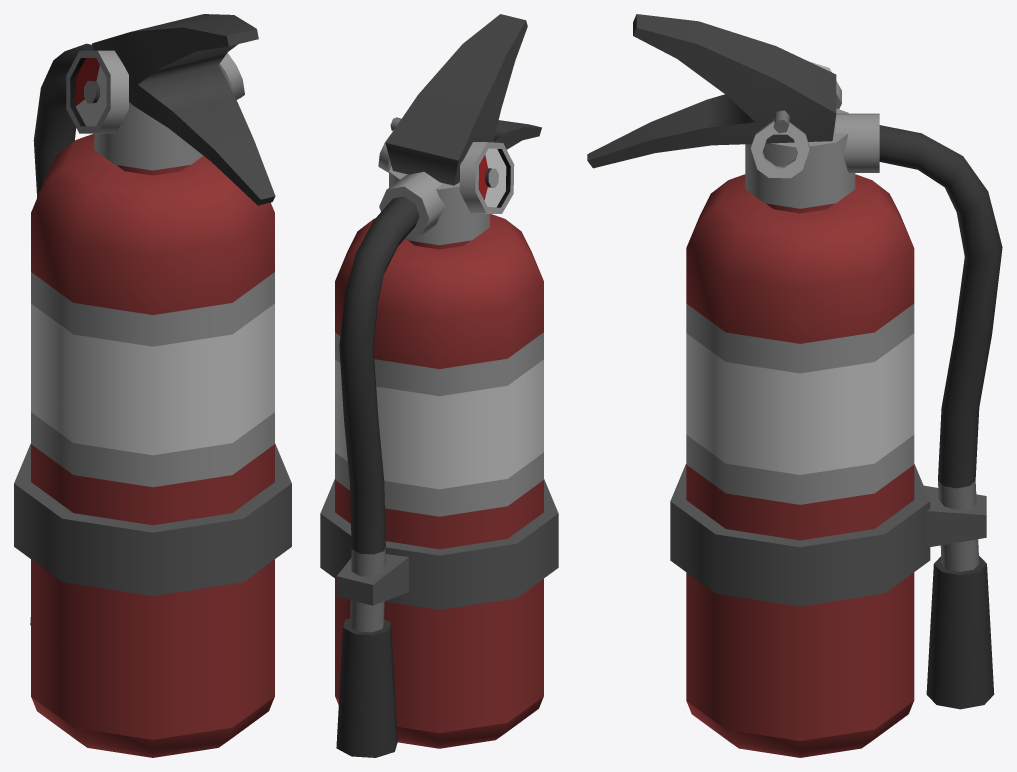
File: FireExtringuisher.fbx
3 views of the same model, side by side, from view 1: azimuth 30°, elevation 25°; view 2: azimuth 150°, elevation 25°; view 3: azimuth 270°, elevation 25° (orthographic). The views are drawn at different scales.
Parts seen in each view (by area): view 1: FireExtinguisher; view 2: FireExtinguisher; view 3: FireExtinguisher.
Part boxes in pixels (x1,y1,x2,y2): FireExtinguisher: (14, 14, 291, 757); FireExtinguisher: (320, 14, 558, 757); FireExtinguisher: (587, 14, 1002, 757).
Size of the model in its own units: 0.2561 by 0.7702 by 0.4155.
